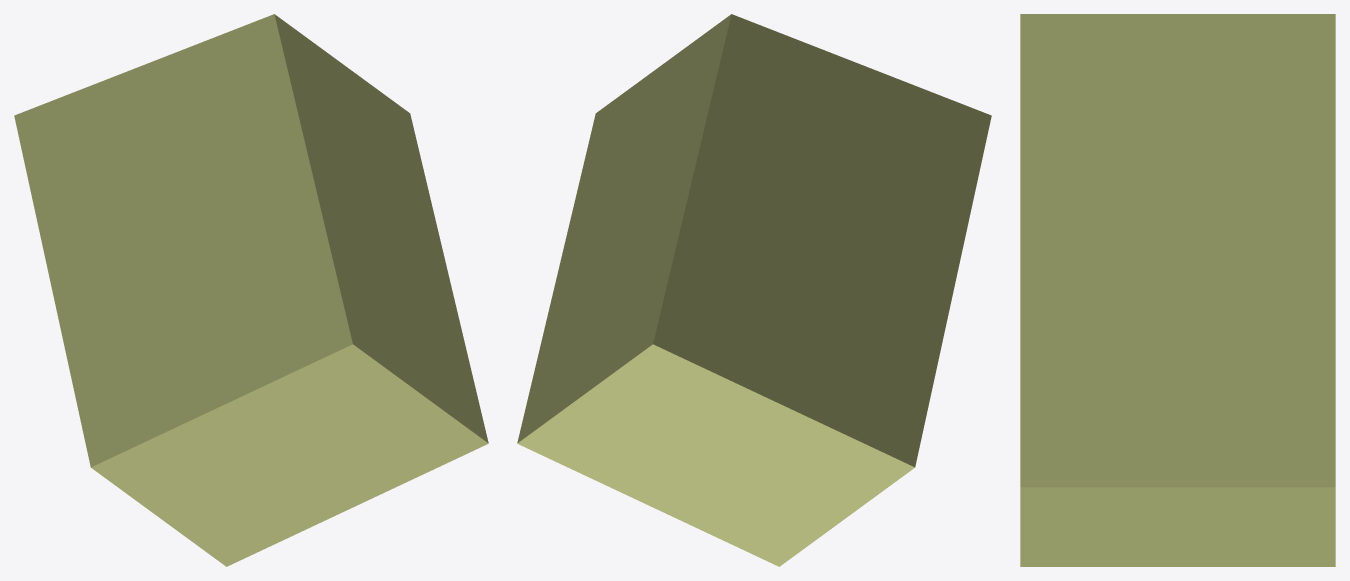
3 views of the same model, side by side, from view 1: azimuth 30°, elevation 25°; view 2: azimuth 150°, elevation 25°; view 3: azimuth 270°, elevation 25° (orthographic). The views are drawn at different scales.
Parts seen in each view (by area): view 1: 0_1_0_2_1_3_2_1_1_2; view 2: 0_1_0_2_1_3_2_1_1_2; view 3: 0_1_0_2_1_3_2_1_1_2.
Part boxes in pixels (bbox=[...]): 0_1_0_2_1_3_2_1_1_2: bbox=[14, 14, 488, 566]; 0_1_0_2_1_3_2_1_1_2: bbox=[517, 14, 991, 566]; 0_1_0_2_1_3_2_1_1_2: bbox=[1020, 14, 1335, 566].
Bounding box in the file's own units: 12.96 × 14.94 × 9.
